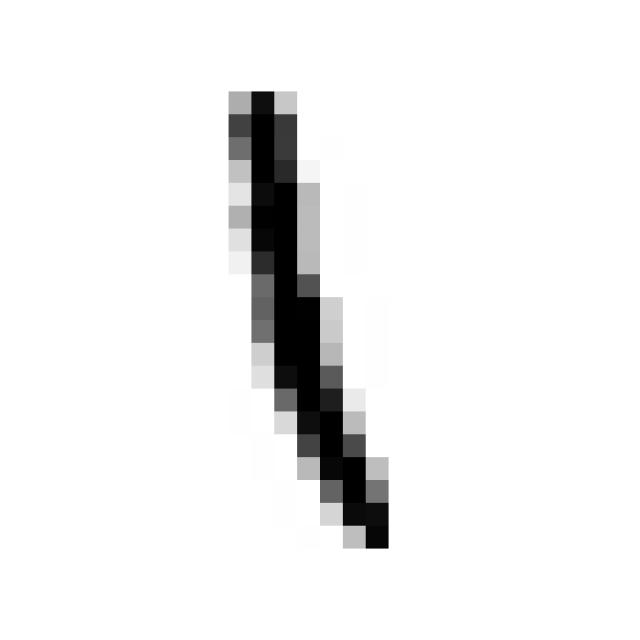1 -one-: (208, 73, 409, 568)
